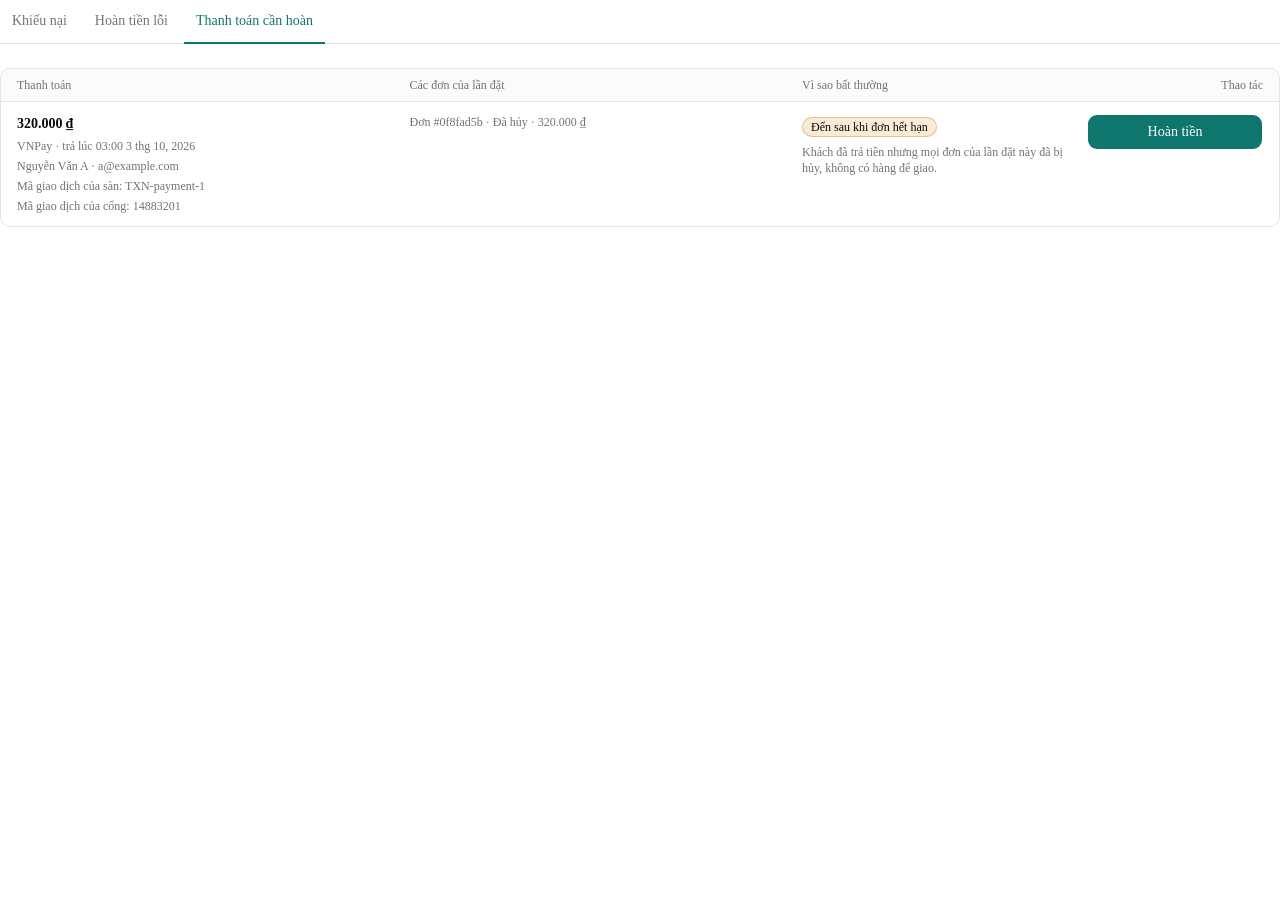
Test case: AdminRefundsContainer — tab Thanh toán cần hoàn › 409 PAYMENT_NOT_REFUNDABLE (Admin khác vừa hoàn): lỗi đã dịch, không toast thành công
Click the button "Hoàn tiền" at (1175, 132), box [1087, 114, 1263, 150]
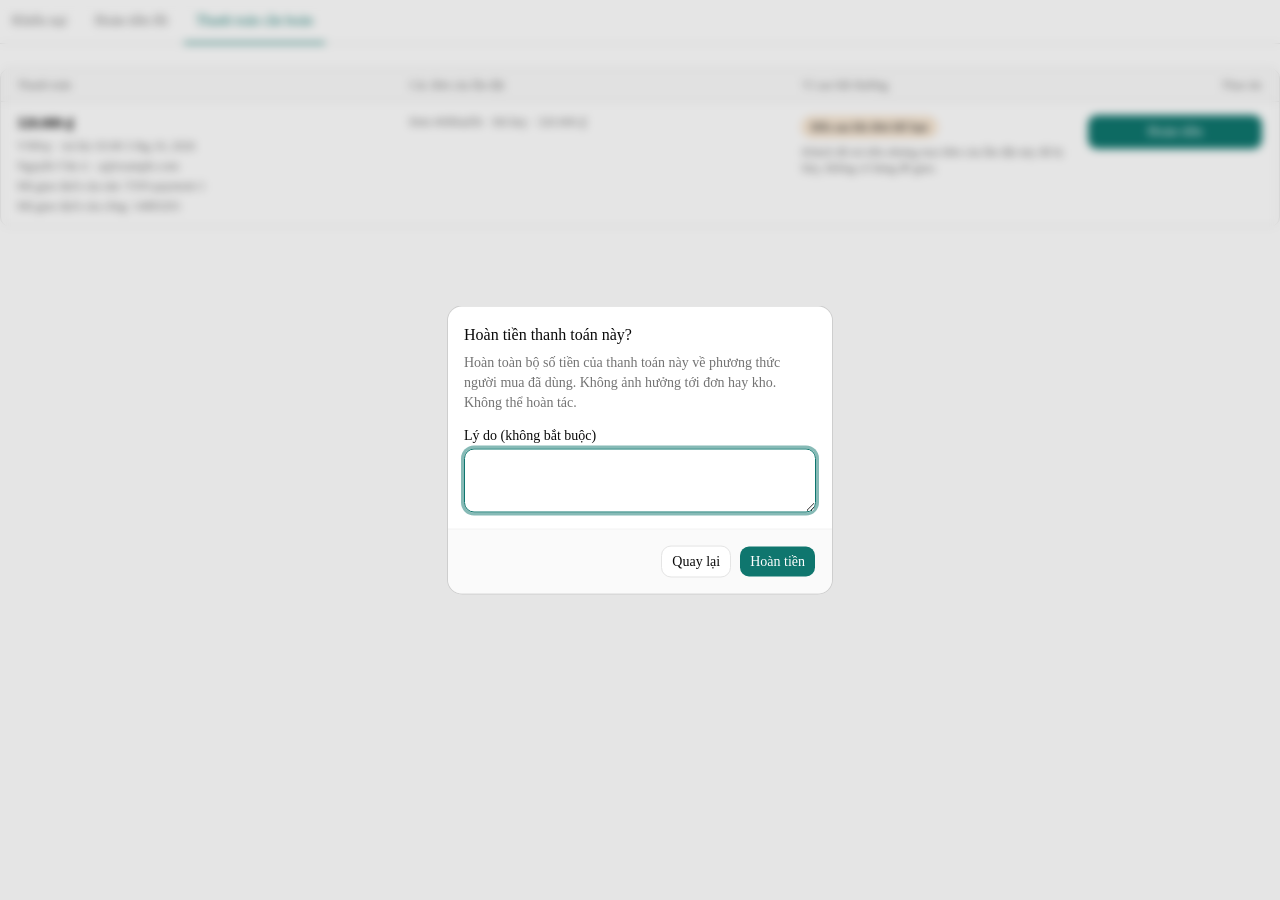
Click the button "Hoàn tiền" at (778, 562), box [739, 546, 816, 578]
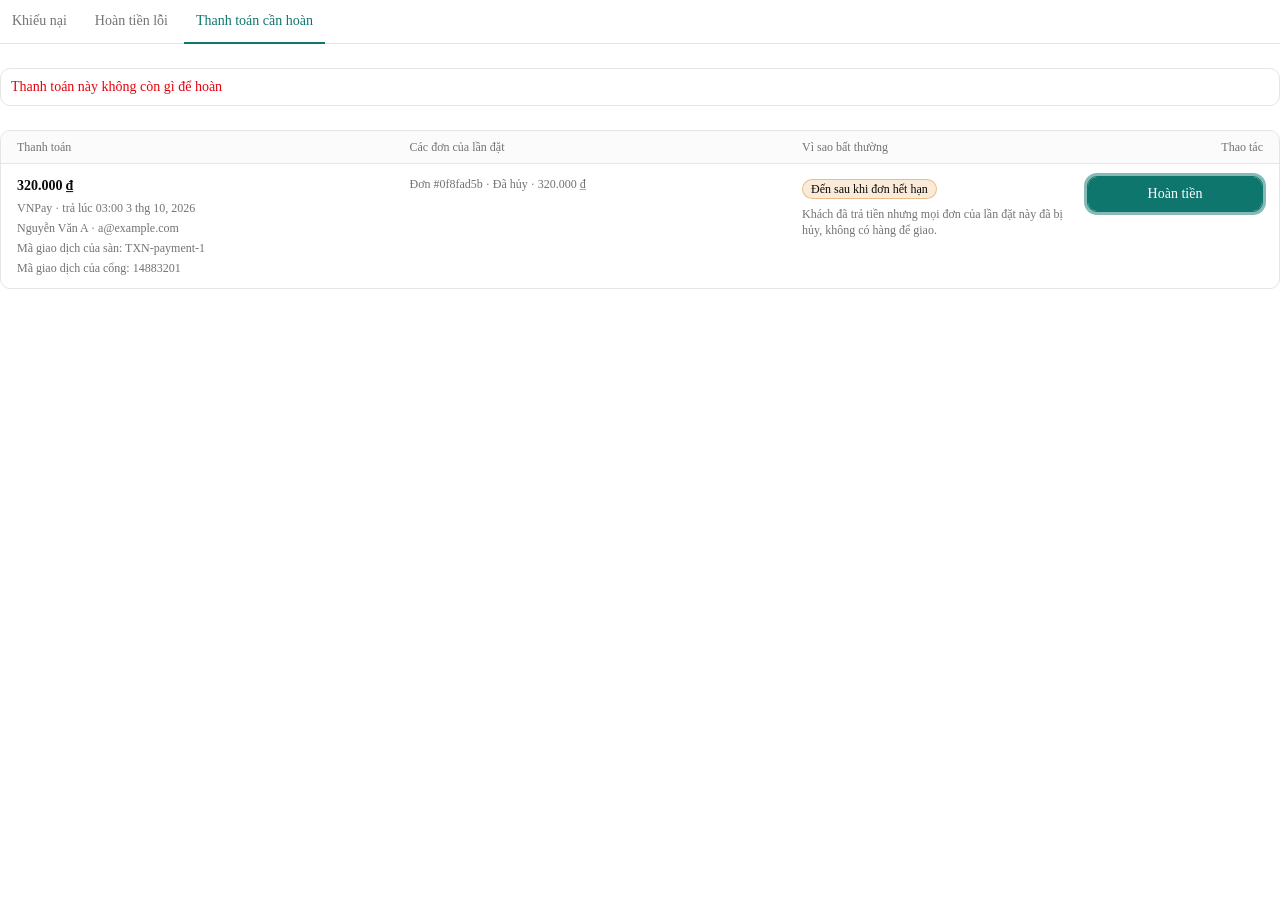
Expected: the message "Thanh toán này không còn gì để hoàn" is shown, [0, 68, 1279, 106]
